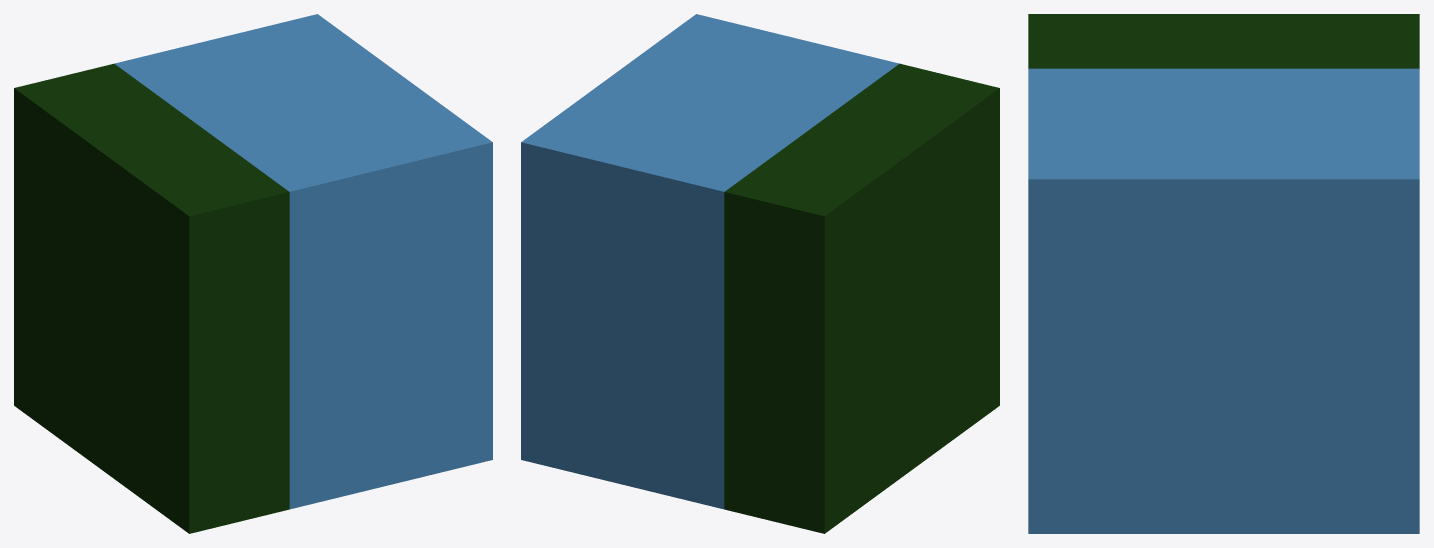
The model's file is Import0.fbx.
3 views of the same model, side by side, from view 1: azimuth 30°, elevation 25°; view 2: azimuth 150°, elevation 25°; view 3: azimuth 270°, elevation 25° (orthographic). The views are drawn at different scales.
Visible parts, largest first — view 1: Cube.008; view 2: Cube.008; view 3: Cube.008.
Boxes of the visible parts, x1,y1,x2,y2 form: Cube.008: [14, 14, 492, 533]; Cube.008: [521, 14, 999, 533]; Cube.008: [1028, 14, 1419, 533].
Size of the model in its own units: 100 by 100 by 100.
